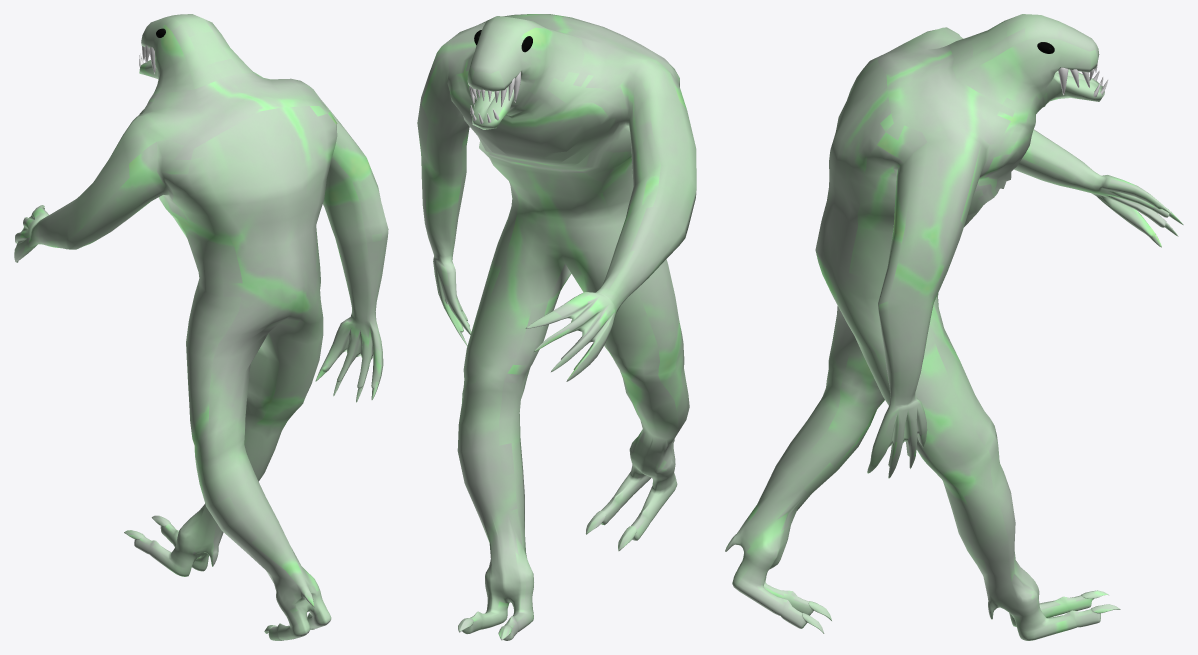
The model's file is Berserkerandar.0059.obj.
3 renders of one model, left to right at view 1: azimuth 30°, elevation 25°; view 2: azimuth 150°, elevation 25°; view 3: azimuth 270°, elevation 25°, orthographic. The views are drawn at different scales.
Visible parts, largest first — view 1: polySurface27; view 2: polySurface27; view 3: polySurface27.
Boxes of the visible parts, x1,y1,x2,y2 form: polySurface27: [14, 14, 388, 640]; polySurface27: [417, 14, 696, 640]; polySurface27: [725, 14, 1183, 640].
Bounding box in the file's own units: 11.96 × 23.2 × 15.7.
1 material, 1 textured.
